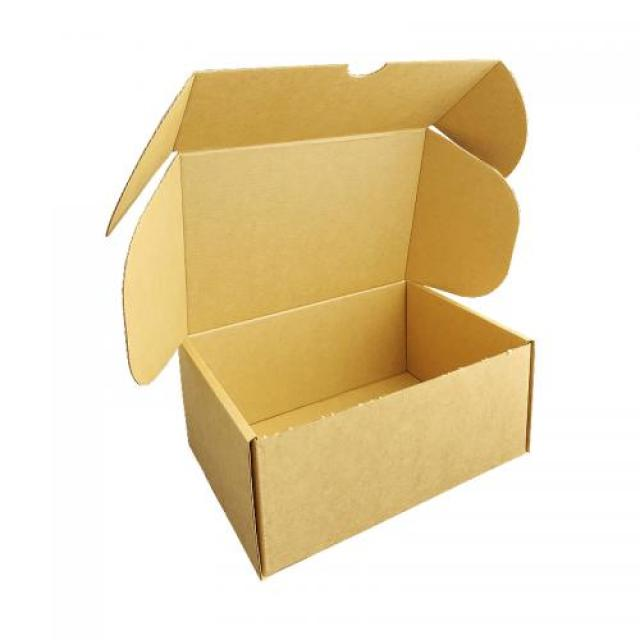Garbage: (97, 40, 547, 578)
